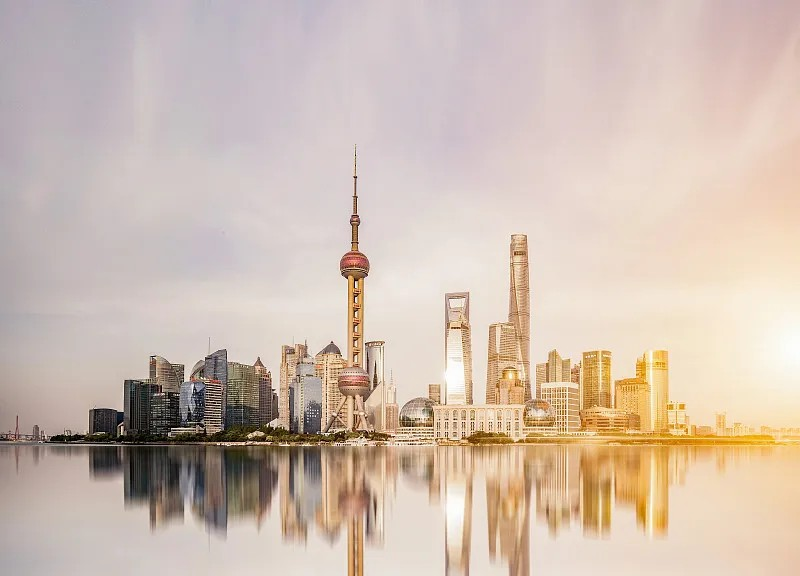Oriental: (322, 145, 371, 430)
